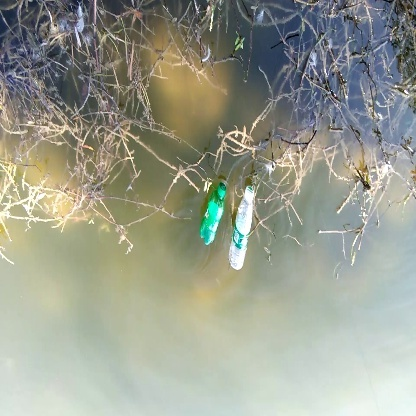bottle: (227, 183, 259, 271), (196, 177, 227, 246)
